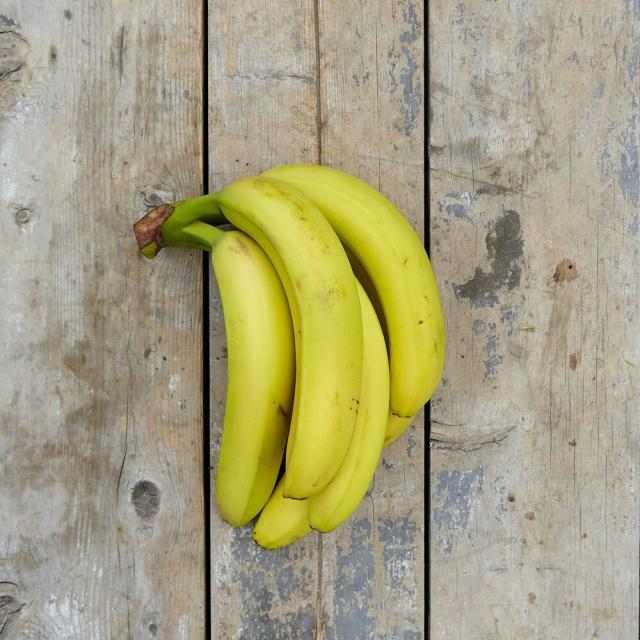banana: (130, 159, 459, 562)
